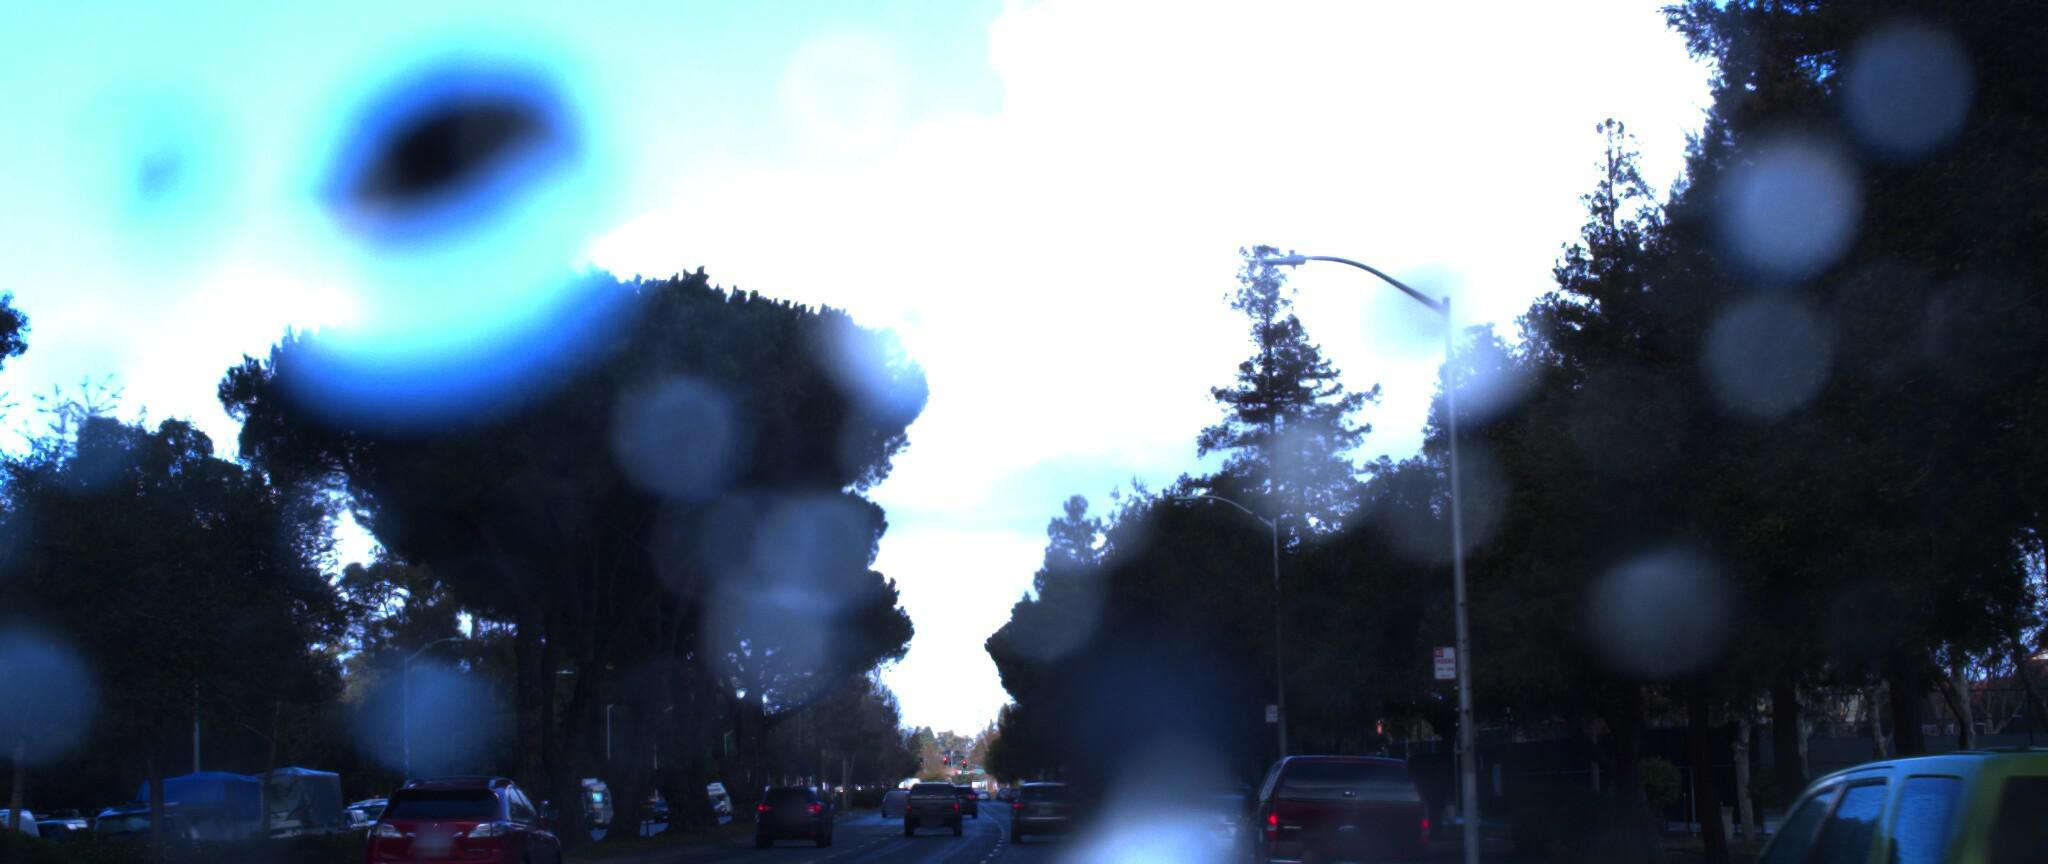car: (1557, 747, 2048, 864), (1241, 743, 1445, 864), (349, 767, 576, 864), (1189, 790, 1300, 864), (1176, 778, 1276, 855), (741, 788, 833, 856), (997, 773, 1078, 837)
